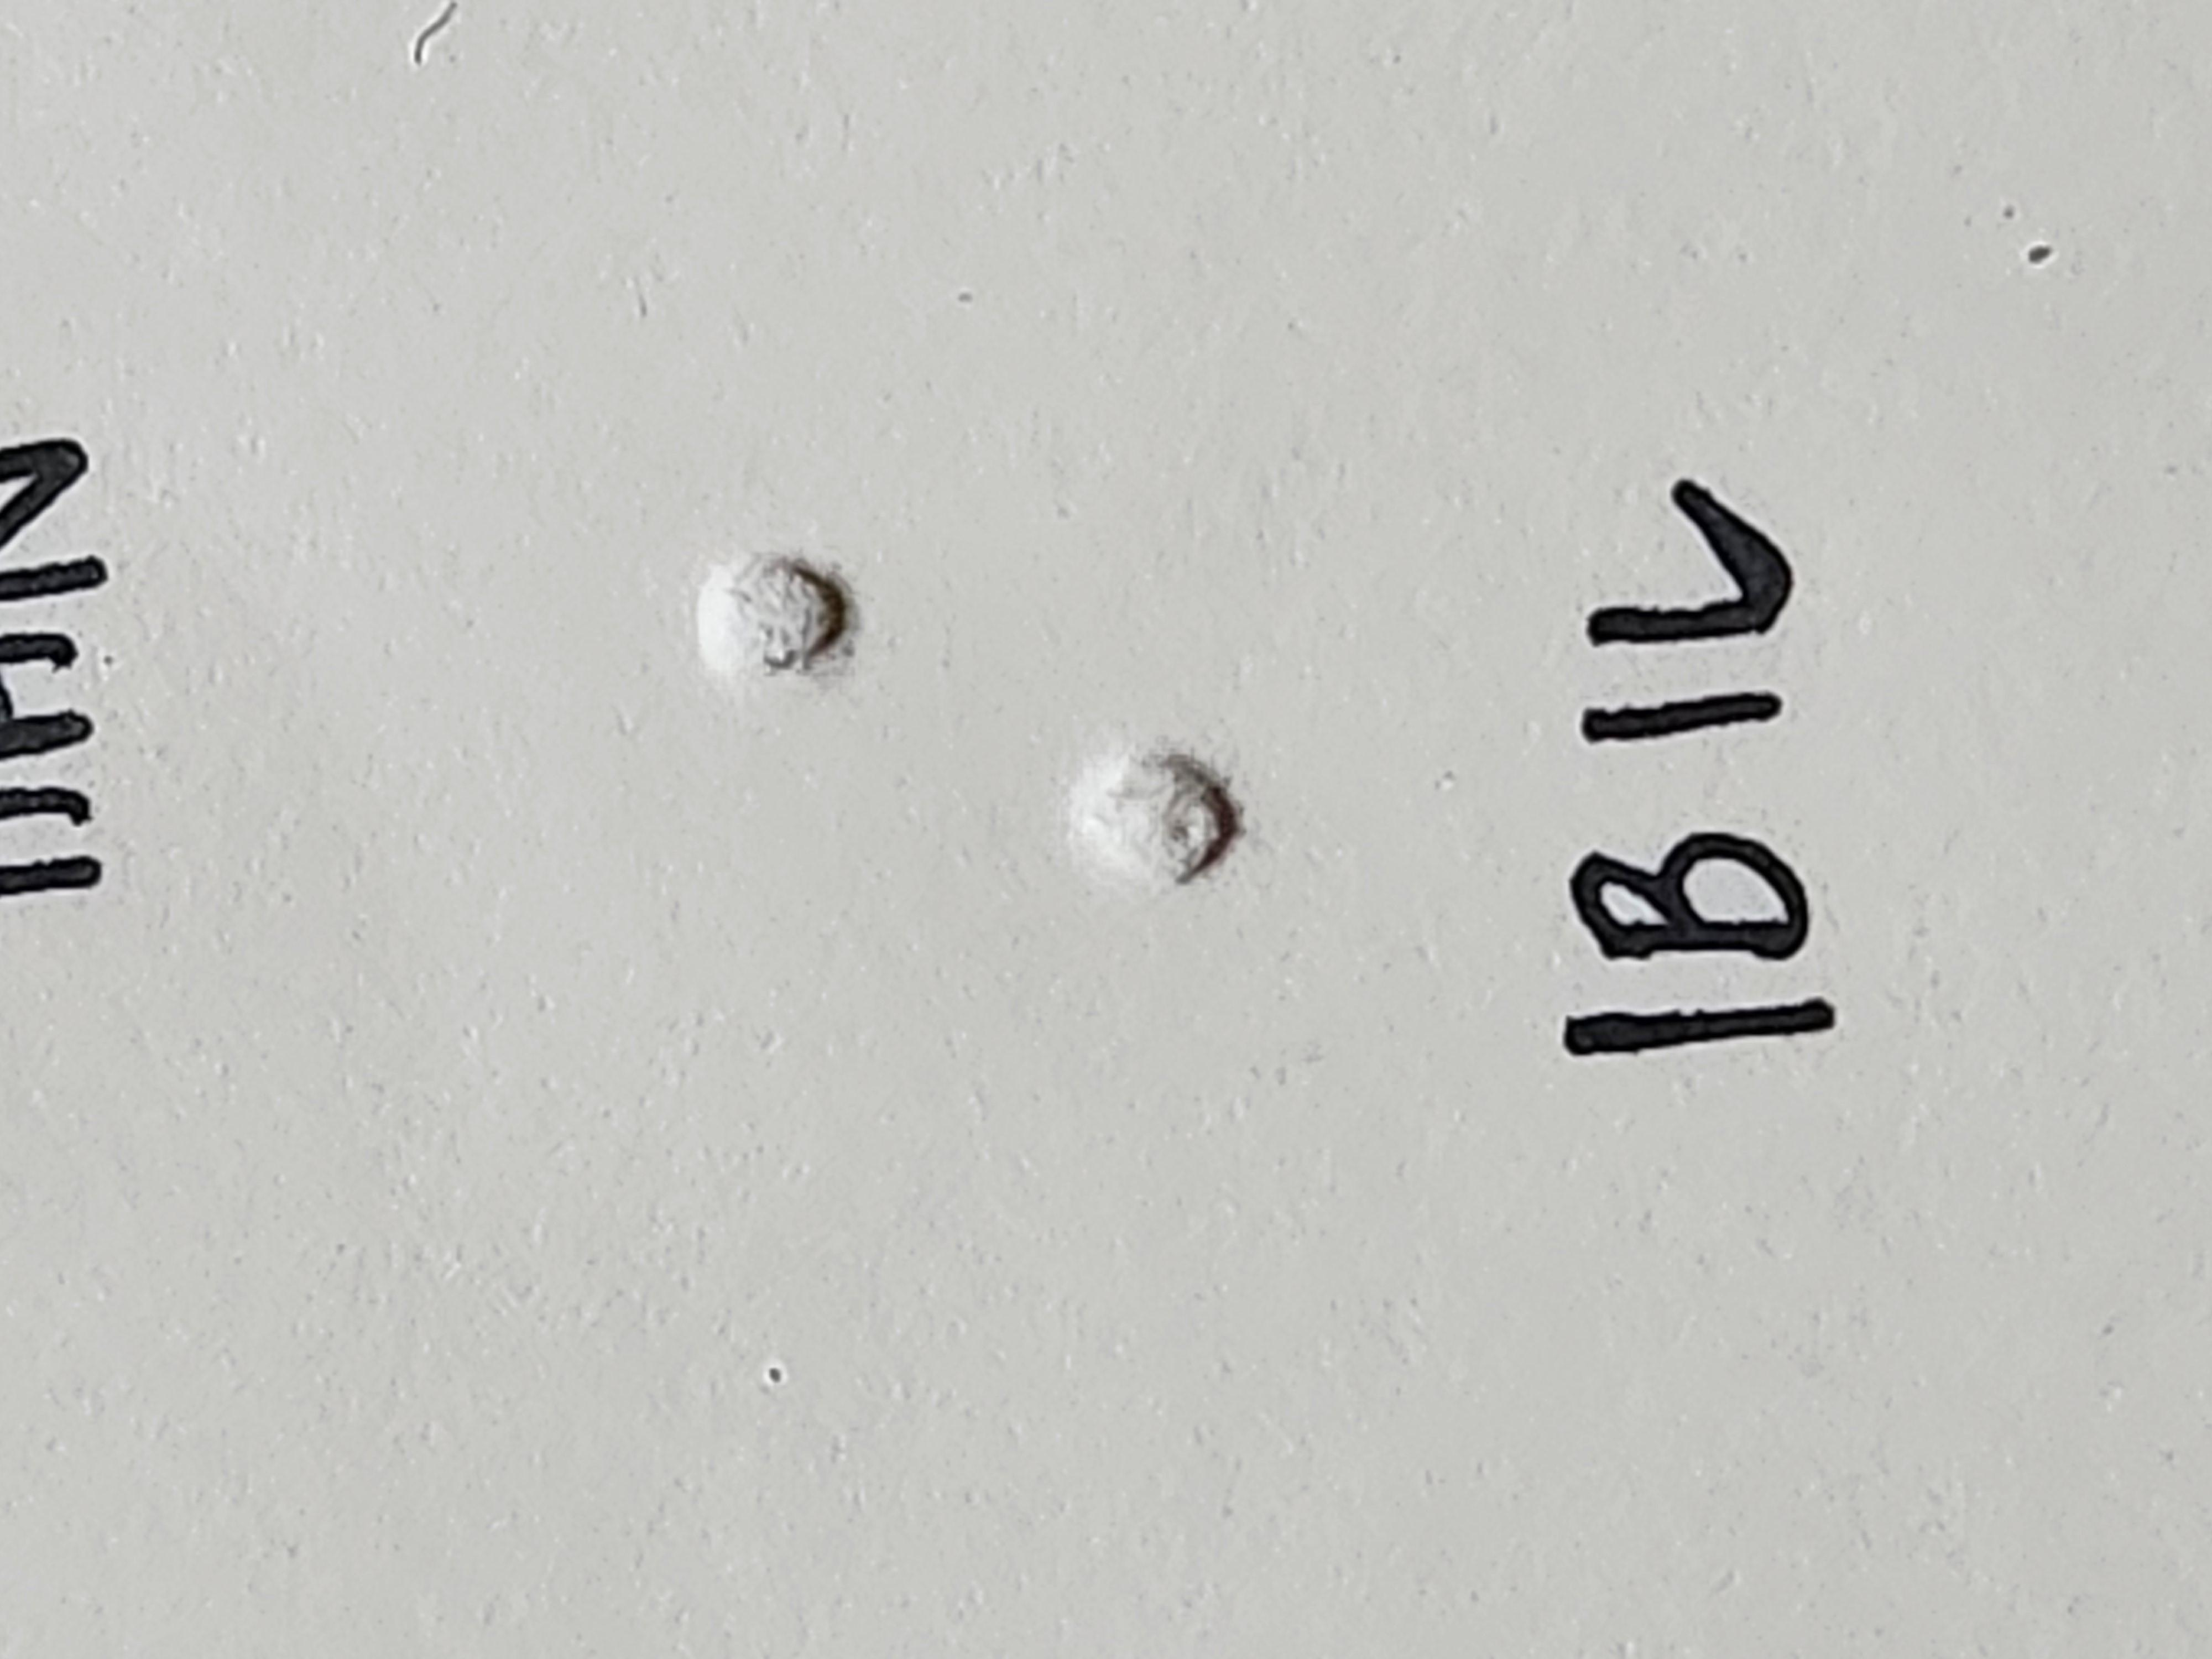one_cell_non_alphabet_ibig: (1035, 523, 1487, 925)
